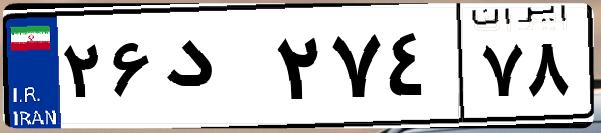2: (270, 28, 330, 110), (57, 26, 110, 100)
4: (385, 28, 445, 110)
6: (110, 28, 158, 98)
7: (330, 28, 385, 110), (475, 38, 525, 113)
8: (525, 38, 570, 115)
د: (158, 20, 270, 120)
